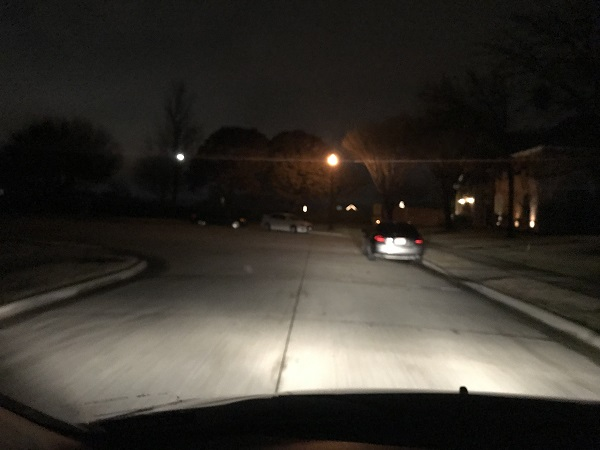car: (362, 216, 423, 262), (258, 211, 311, 234), (196, 210, 248, 228)
